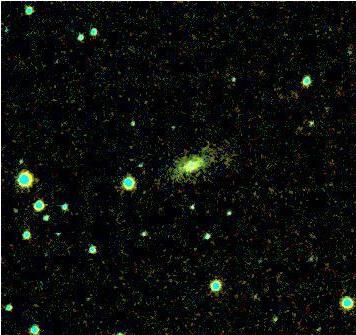star: (66, 95, 96, 125)
